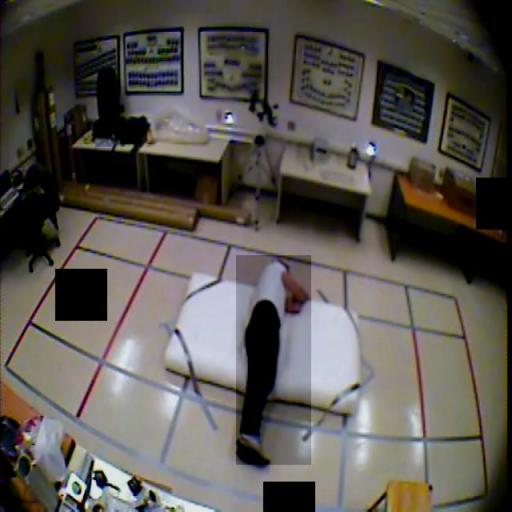Fall: (236, 255, 311, 465)
